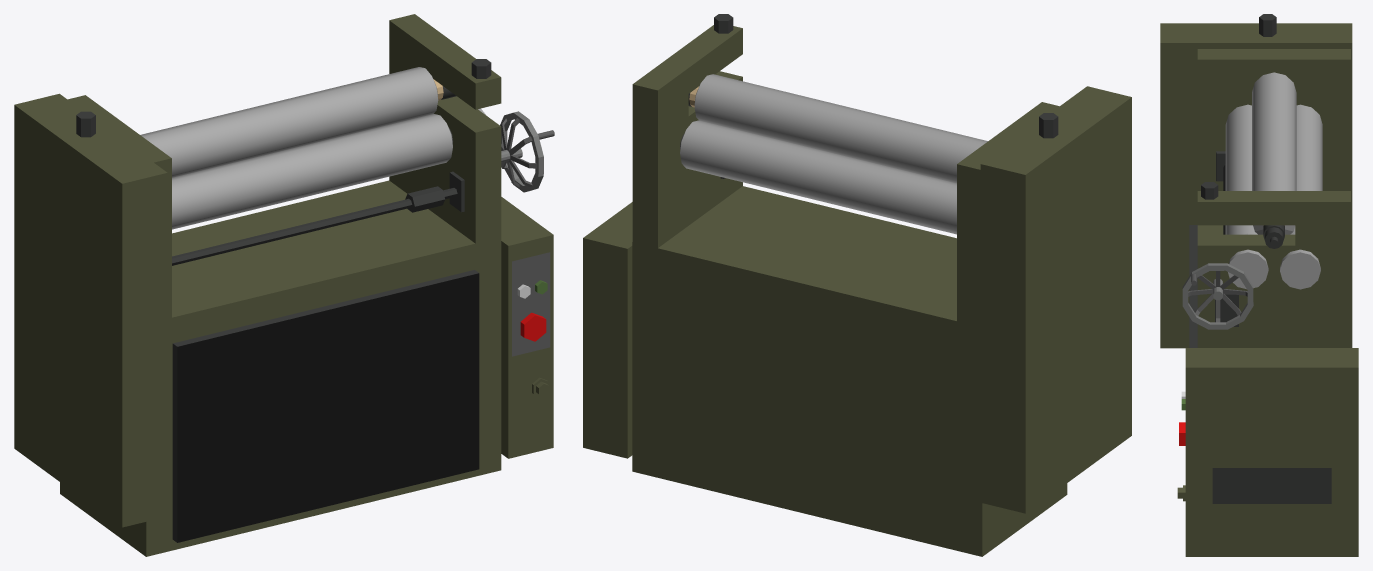
Rendered from MetalSheetRoller.glb.
3 renders of one model, left to right at view 1: azimuth 30°, elevation 25°; view 2: azimuth 150°, elevation 25°; view 3: azimuth 270°, elevation 25°, orthographic. The views are drawn at different scales.
Parts seen in each view (by area): view 1: metalSheetMachine; view 2: metalSheetMachine; view 3: metalSheetMachine.
Part boxes in pixels (x1=…): metalSheetMachine: x1=14, y1=14, x2=554, y2=556; metalSheetMachine: x1=583, y1=14, x2=1131, y2=556; metalSheetMachine: x1=1160, y1=14, x2=1358, y2=556.
Bounding box in the file's own units: 2.11 × 1.87 × 0.9037.
1 material, 1 textured.
